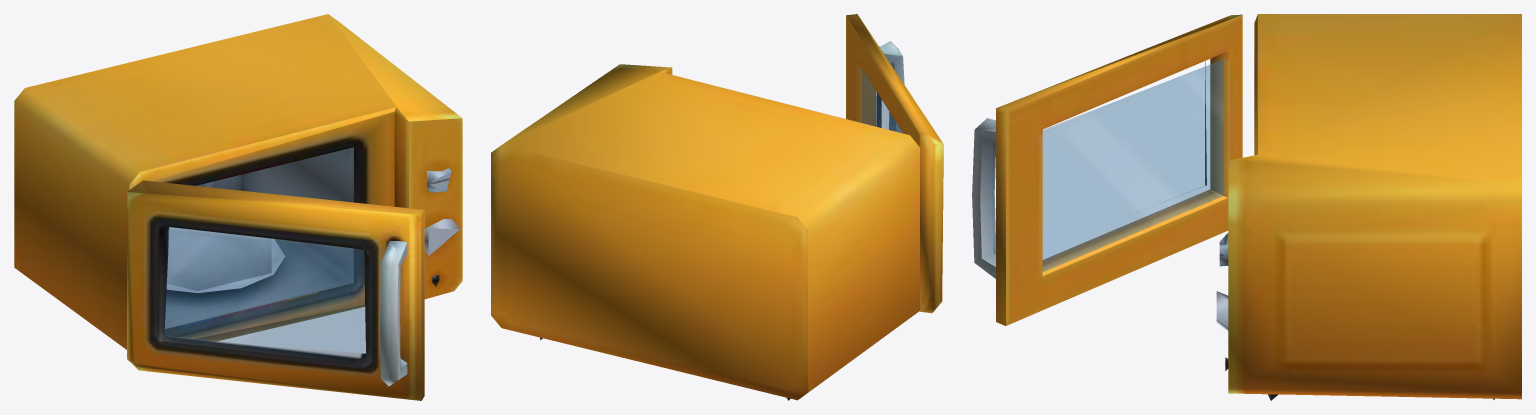
File: Microwave_oven.glb
The picture shows the model from 3 angles, left to right: view 1: azimuth 30°, elevation 25°; view 2: azimuth 150°, elevation 25°; view 3: azimuth 270°, elevation 25°; orthographic projection. The views are drawn at different scales.
Visible parts, largest first — view 1: Obj3d66-15505847-2-858; view 2: Obj3d66-15505847-2-858; view 3: Obj3d66-15505847-2-858.
Part boxes in pixels (box(x1,y1,x2,y2)): Obj3d66-15505847-2-858: box(14, 14, 462, 400); Obj3d66-15505847-2-858: box(491, 14, 943, 400); Obj3d66-15505847-2-858: box(972, 14, 1521, 400).
Bounding box in the file's own units: 0.9006 × 0.5136 × 1.09.
1 material, 1 textured.
